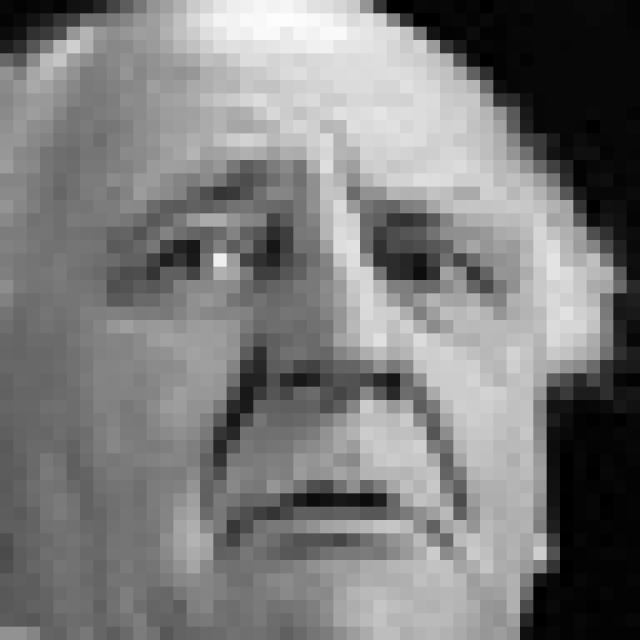sad: (82, 138, 523, 570)
